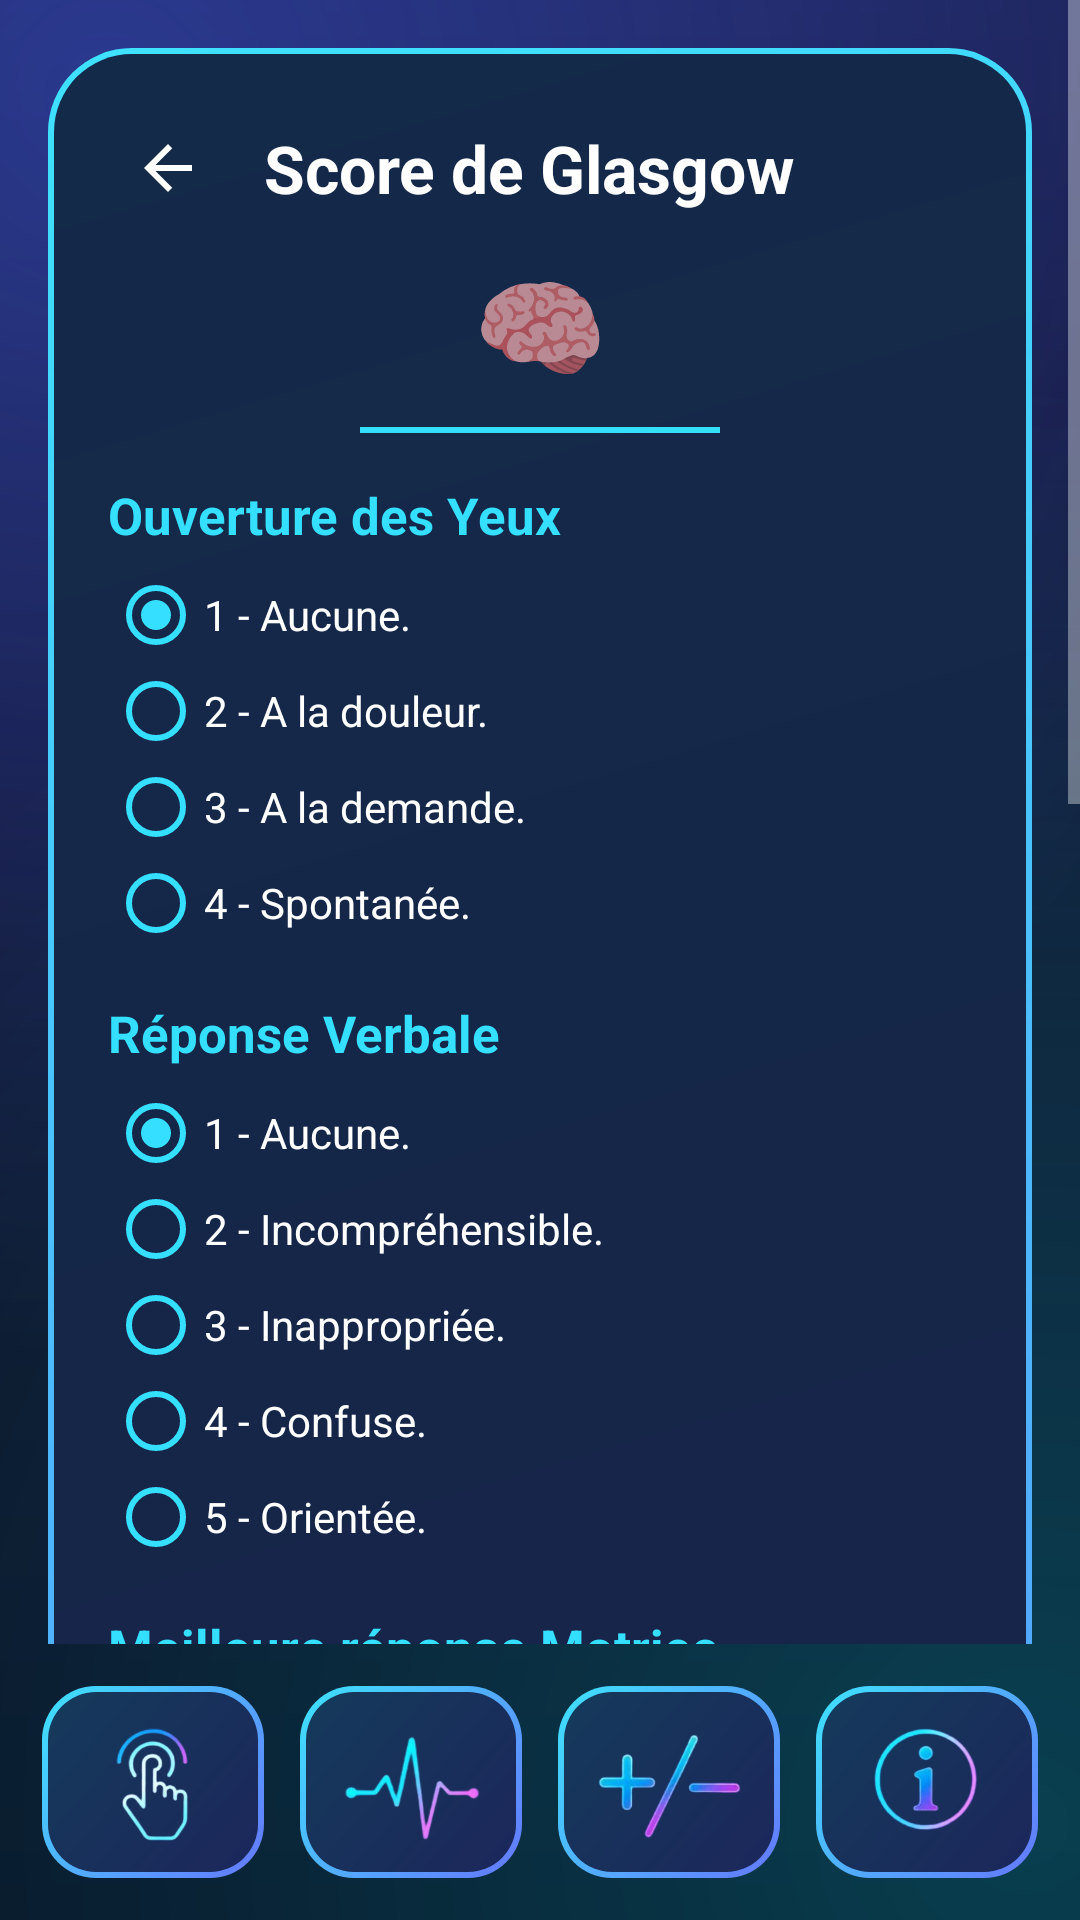

Icon bounding boxes for this 1080px×1920px phone screenshot, format (x1, y1, x2, y2):
Calculs: (558, 1686, 780, 1878)
Compteur: (42, 1686, 264, 1878)
Info: (816, 1686, 1038, 1878)
Retour: (144, 144, 192, 192)
